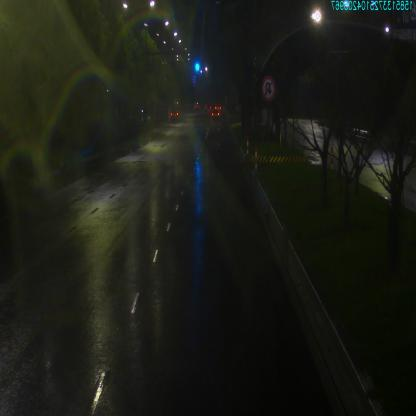traffic-light: (194, 58, 204, 72)
